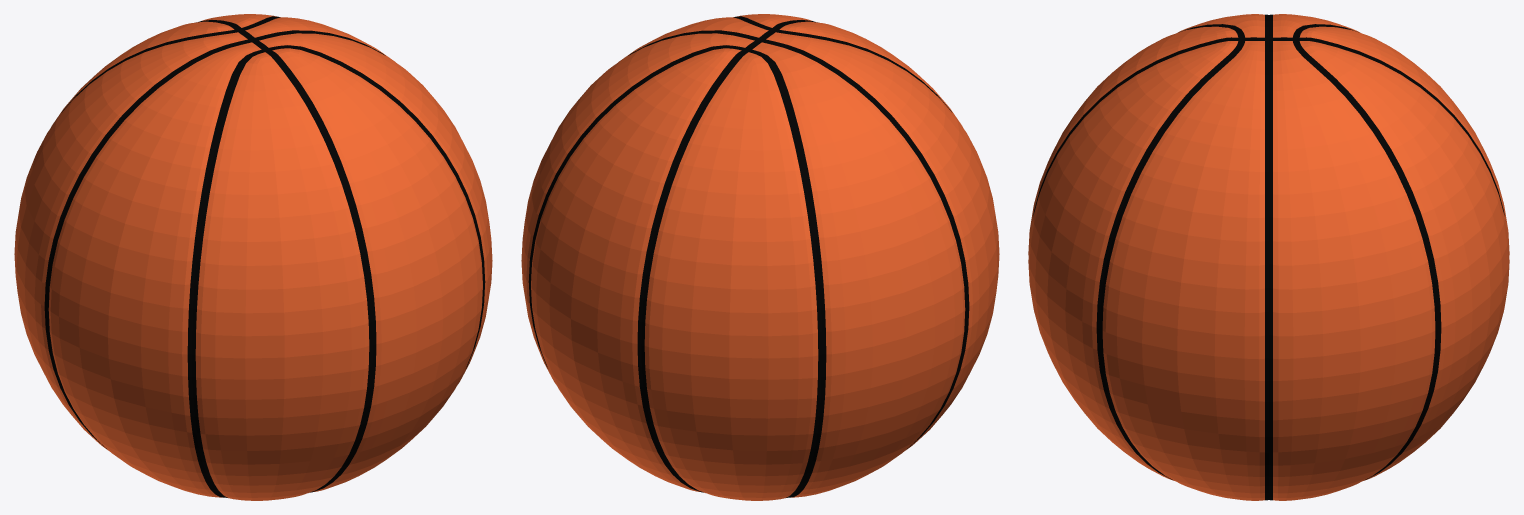
File: basketball.glb
The picture shows the model from 3 angles, left to right: view 1: azimuth 30°, elevation 25°; view 2: azimuth 150°, elevation 25°; view 3: azimuth 270°, elevation 25°; orthographic projection.
Visible parts, largest first — view 1: Sphere; view 2: Sphere; view 3: Sphere.
Boxes of the visible parts, box(x1,y1,x2,y2) form: Sphere: box(14, 14, 492, 500); Sphere: box(521, 14, 999, 500); Sphere: box(1028, 14, 1509, 500).
Bounding box in the file's own units: 0.2339 × 0.2351 × 0.2339.
